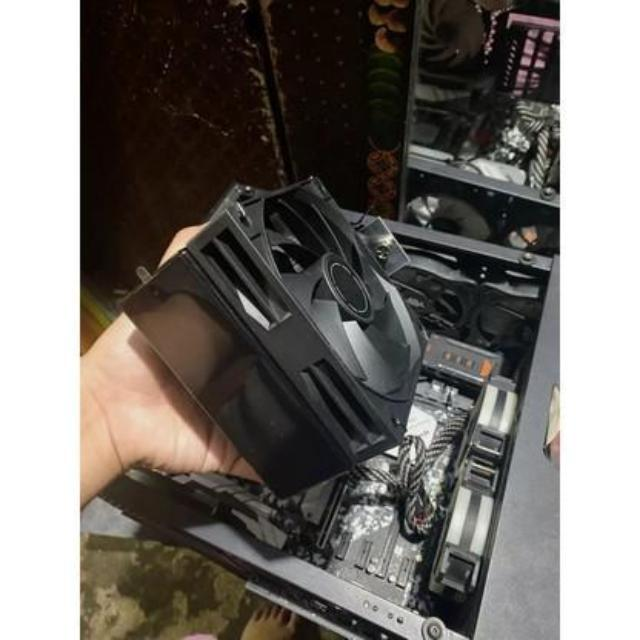CPU_Fan: (115, 174, 428, 496)
